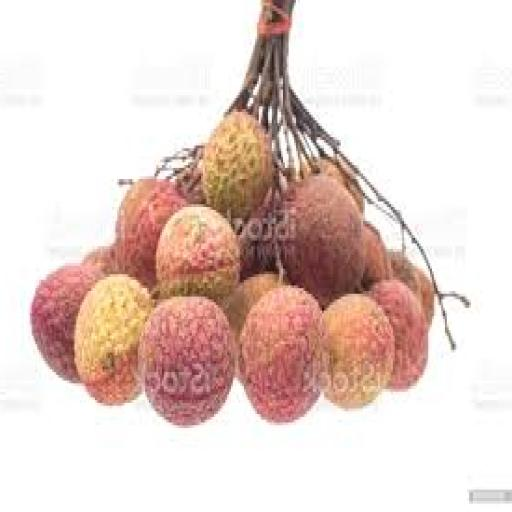lychee: (139, 297, 233, 425), (238, 286, 324, 422), (279, 177, 363, 307), (74, 275, 151, 405), (29, 266, 101, 383), (323, 294, 393, 408), (115, 180, 185, 288), (156, 208, 239, 299), (201, 112, 270, 221), (368, 280, 427, 391), (221, 272, 280, 338), (389, 252, 432, 327), (238, 202, 274, 279), (314, 157, 363, 212), (361, 224, 391, 288), (389, 252, 419, 299), (83, 244, 118, 276), (415, 269, 432, 327)
